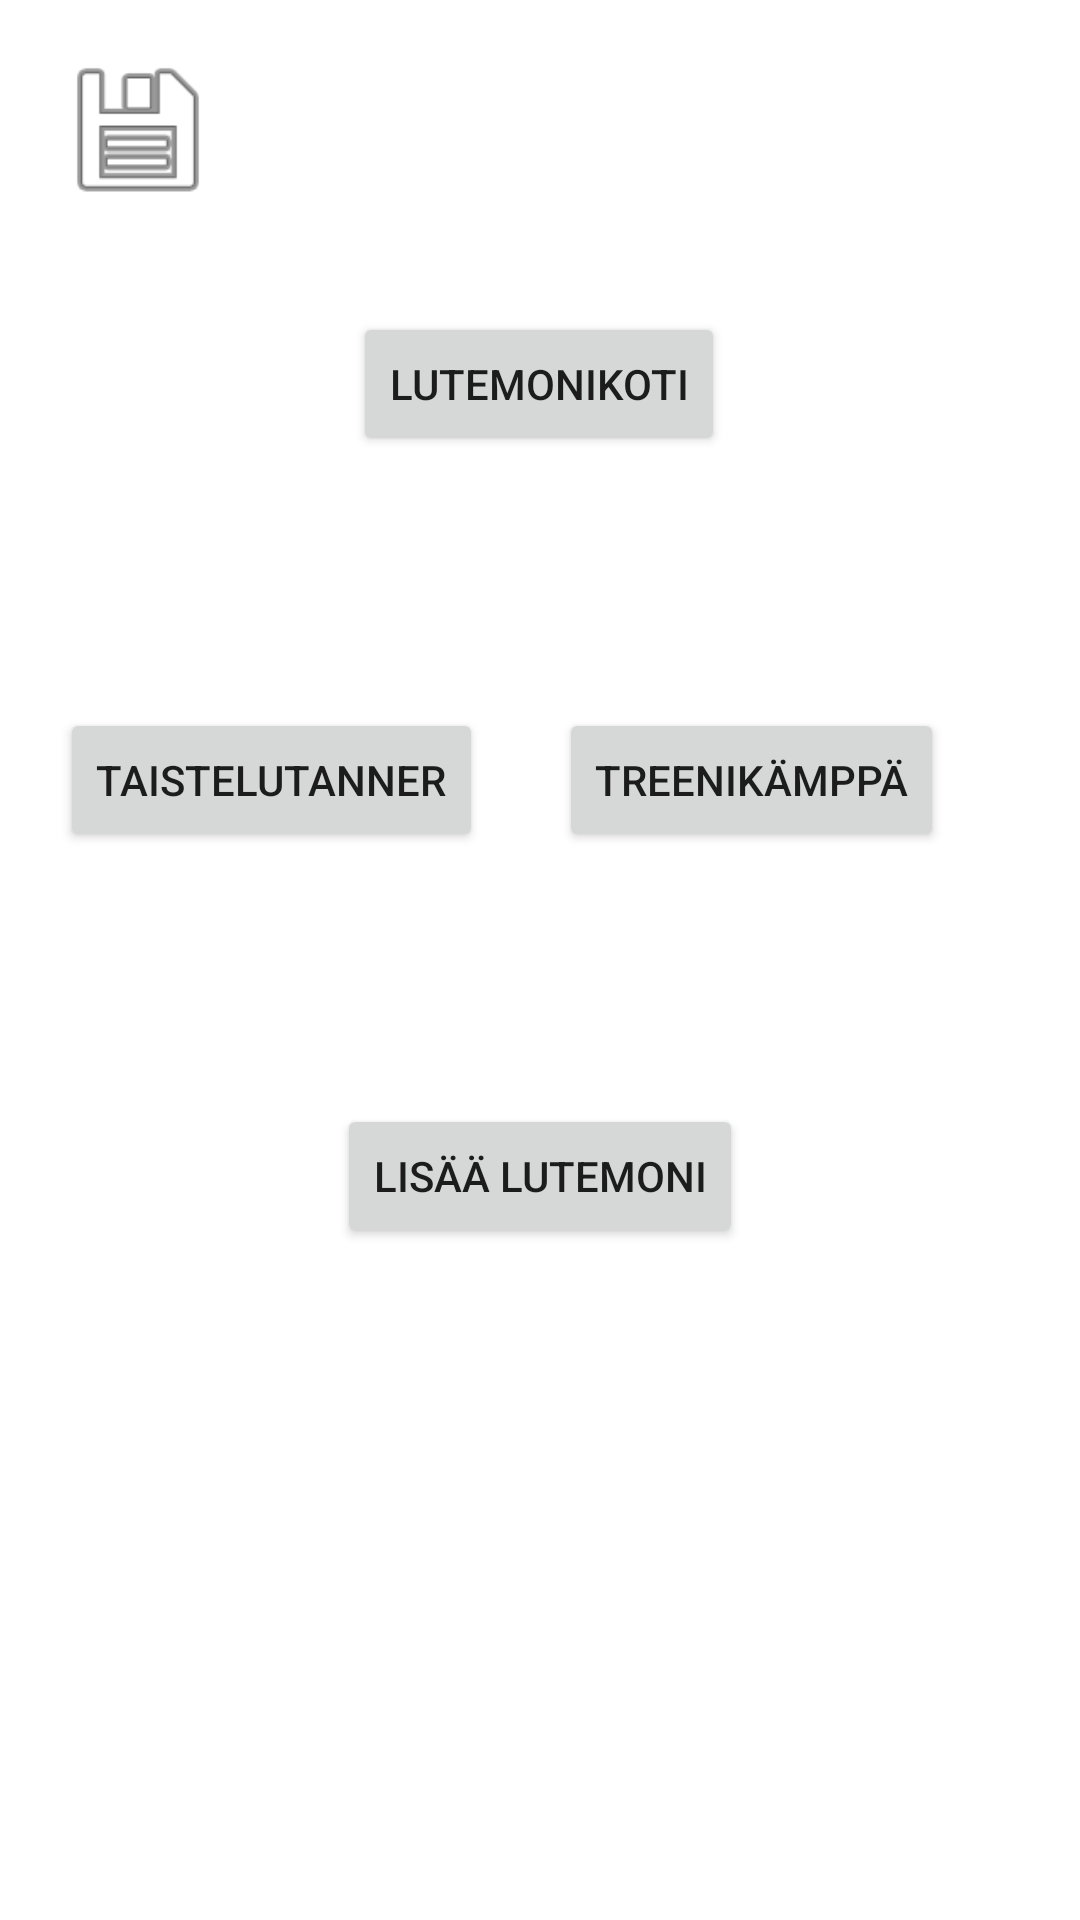

Screen size 1080px×1920px. Icon name, then its center in pixels as (x,y):
save: (138,130)
